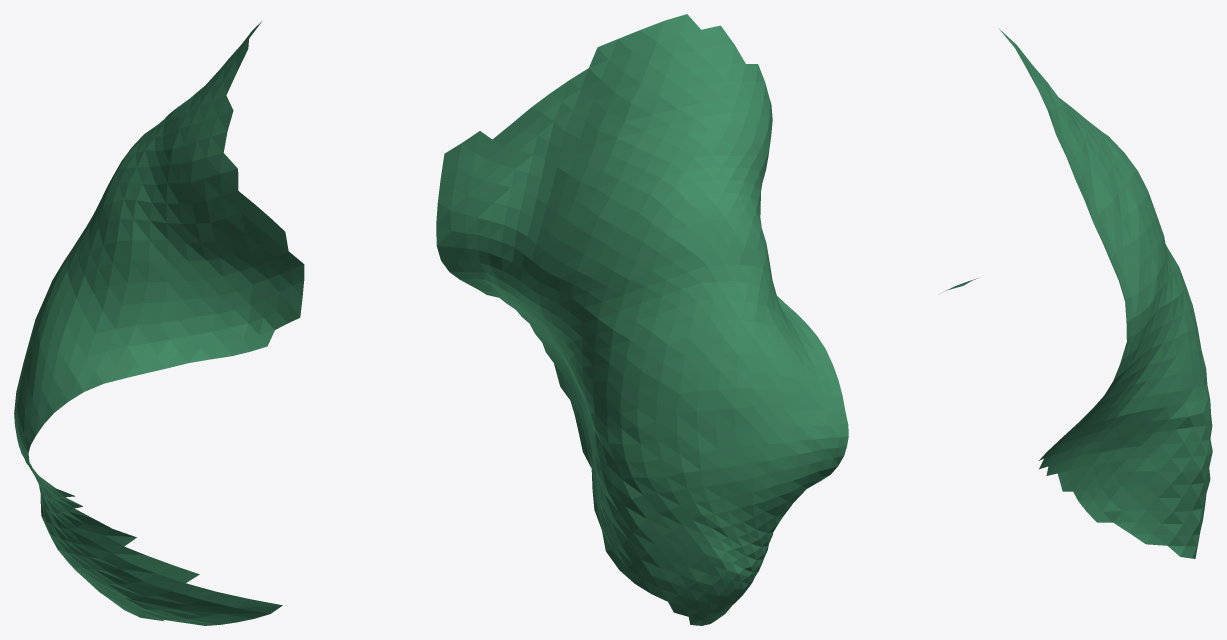
File: lh_parsorbitalis.glb
3 views of the same model, side by side, from view 1: azimuth 30°, elevation 25°; view 2: azimuth 150°, elevation 25°; view 3: azimuth 270°, elevation 25° (orthographic). The views are drawn at different scales.
Visible parts, largest first — view 1: world; view 2: world; view 3: world.
Part boxes in pixels (x1,y1,x2,y2): world: (14,21,304,625); world: (436,14,848,625); world: (946,28,1212,558).
Size of the model in its own units: 19.4 by 28.93 by 13.72.
